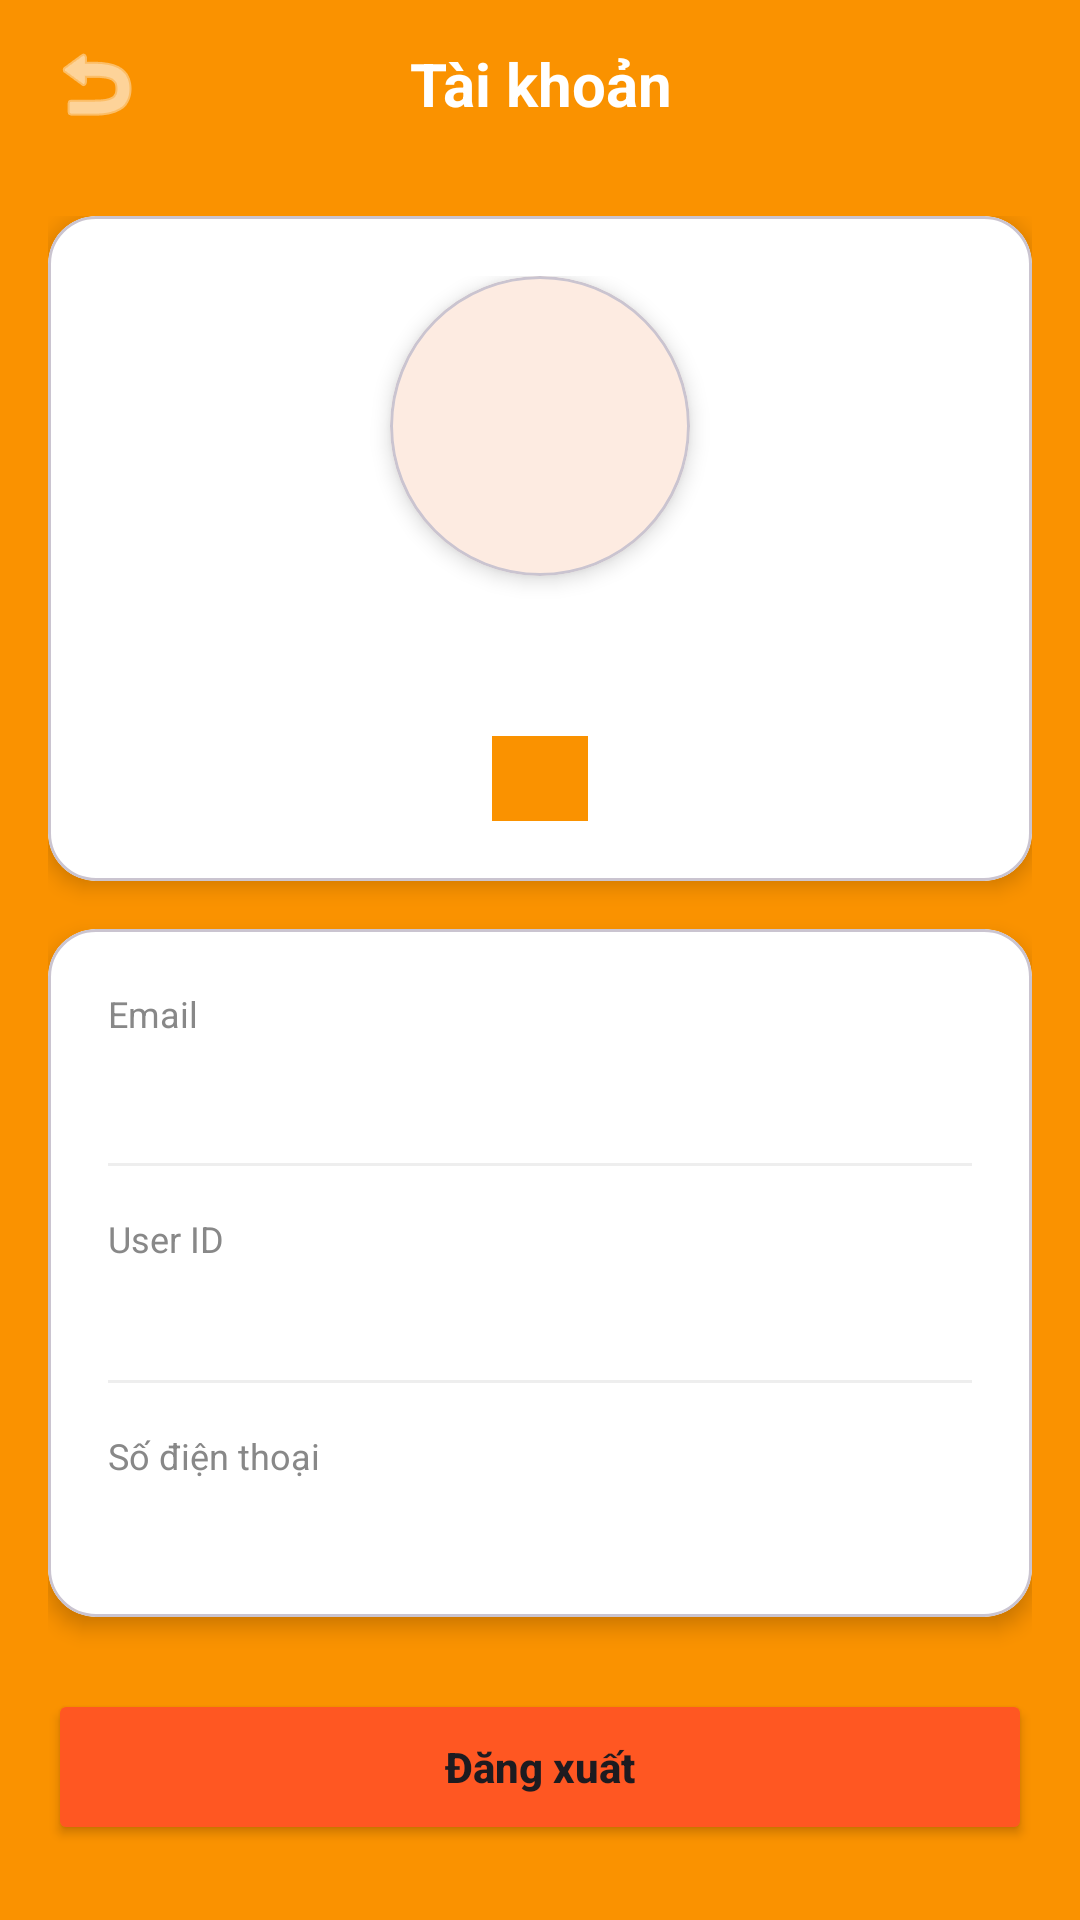

Icons on this 1080 × 1920 Android screen, each with the point to tap as (x,y):
Back: (97,84)
